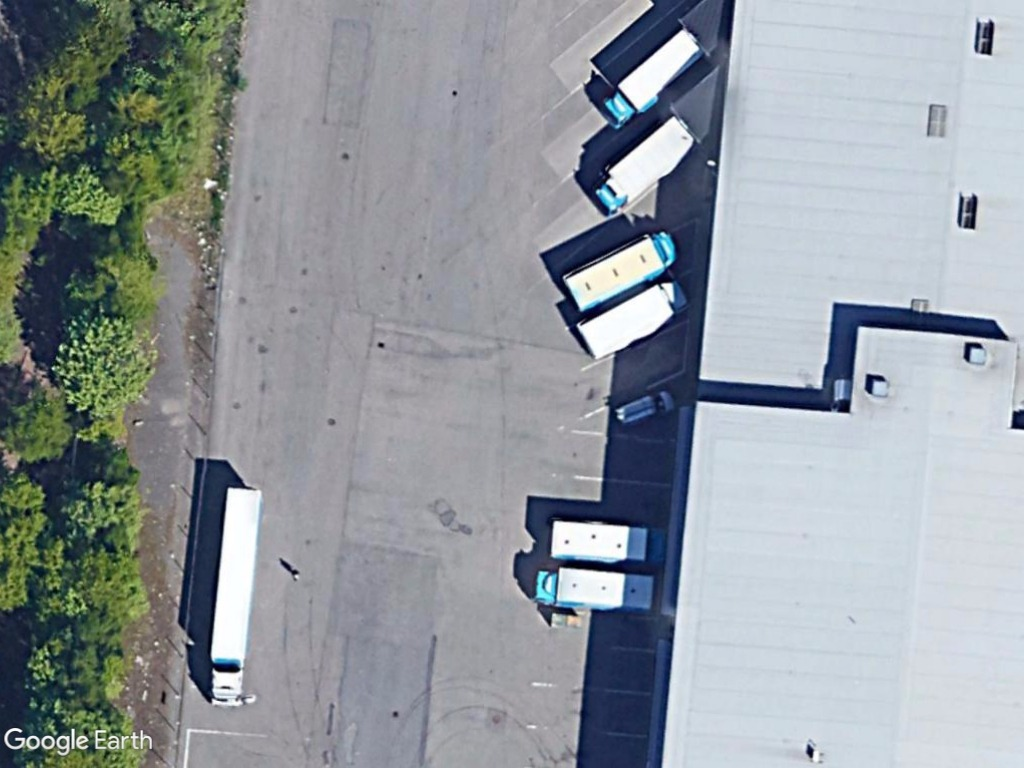car: (610, 381, 681, 435)
longvehicle: (195, 478, 269, 714)
truck: (550, 223, 685, 318), (586, 107, 697, 219), (596, 24, 711, 131), (570, 267, 692, 365), (529, 557, 662, 618)
